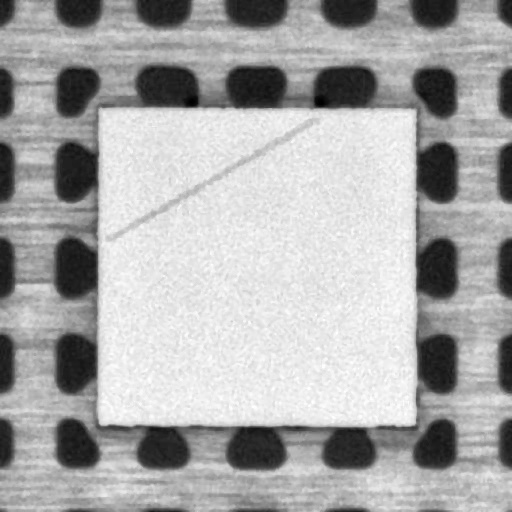DIE_CRACK: (108, 120, 313, 238)
